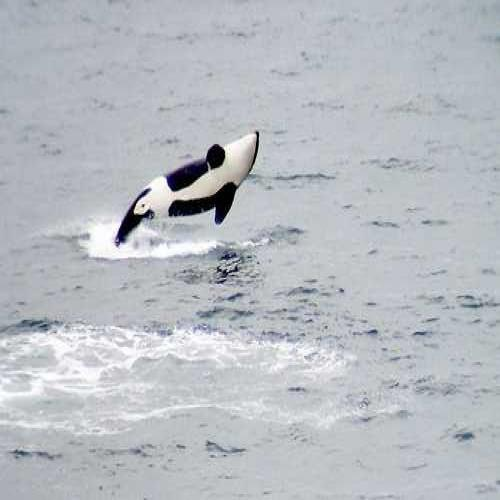killer_whale-endangered: (97, 101, 294, 260)
